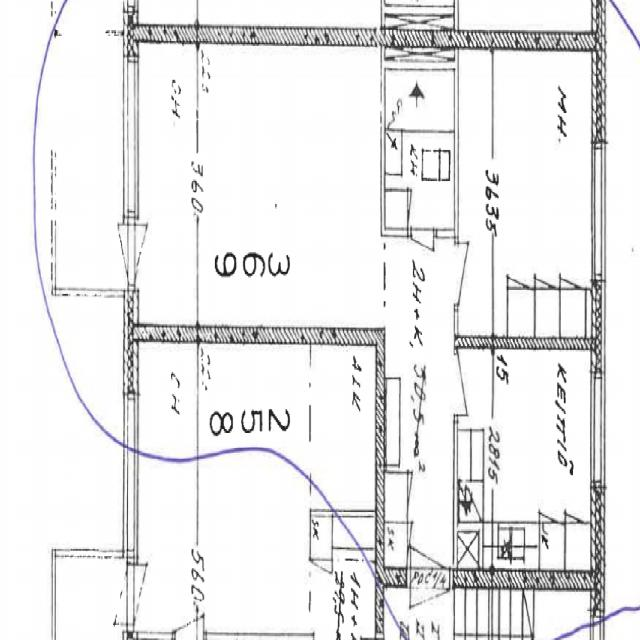door: (410, 494, 450, 587), (122, 224, 172, 286), (89, 224, 138, 286), (453, 355, 491, 415), (453, 244, 491, 304), (410, 227, 436, 283)
